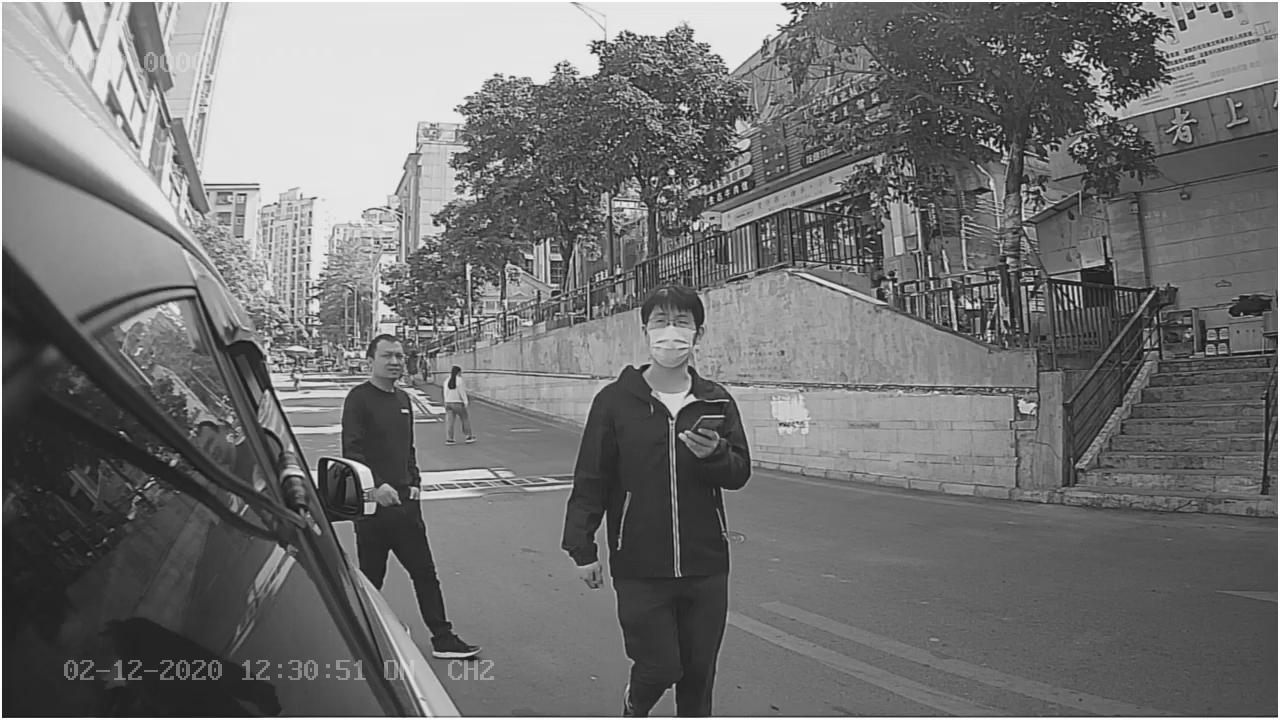person: (560, 279, 753, 584), (342, 335, 422, 455)
